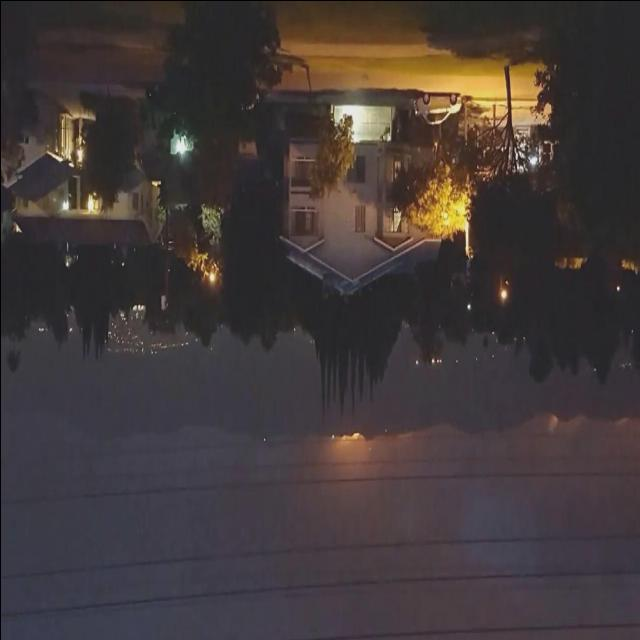Fire: (338, 428, 362, 444)
